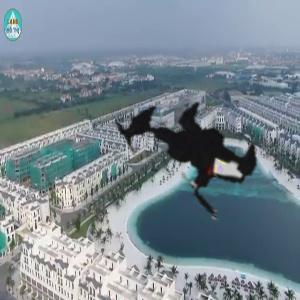drone: (76, 49, 296, 269)
